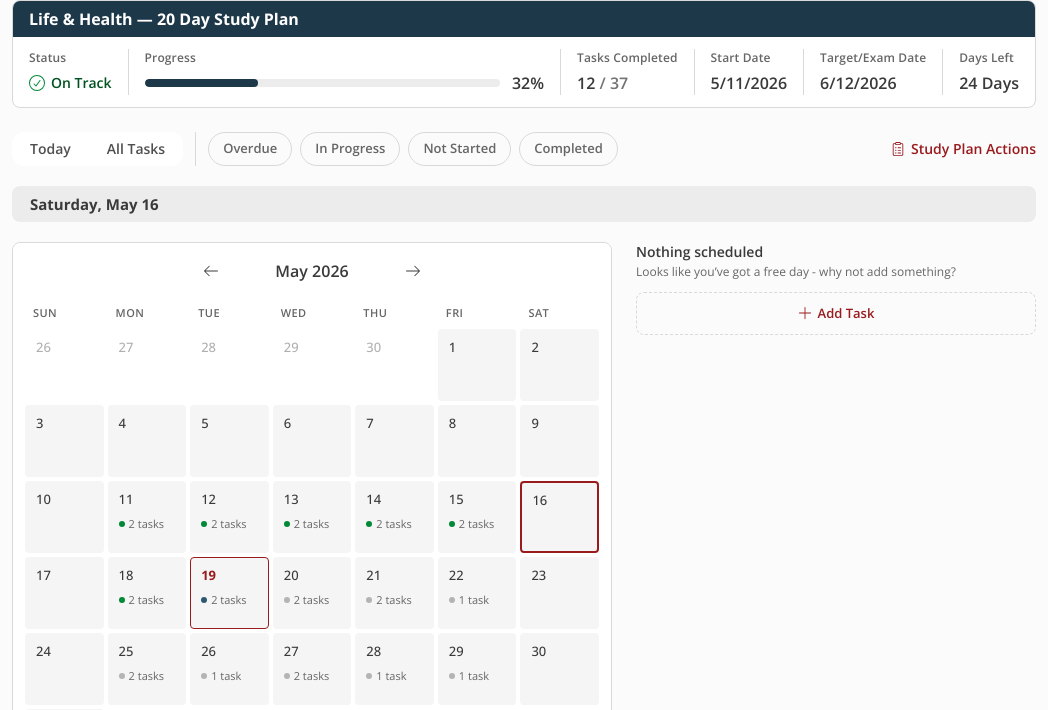
InlineStudyCalendar — create-task entry points › shows the filter message + Add Task when a filter empties the day
Activate a status chip that yields zero results for this empty day.
What coordinates should you click on to do the following:
click the button "Completed"
I would click on:
 (568, 149)
Its box is [519, 132, 618, 166].
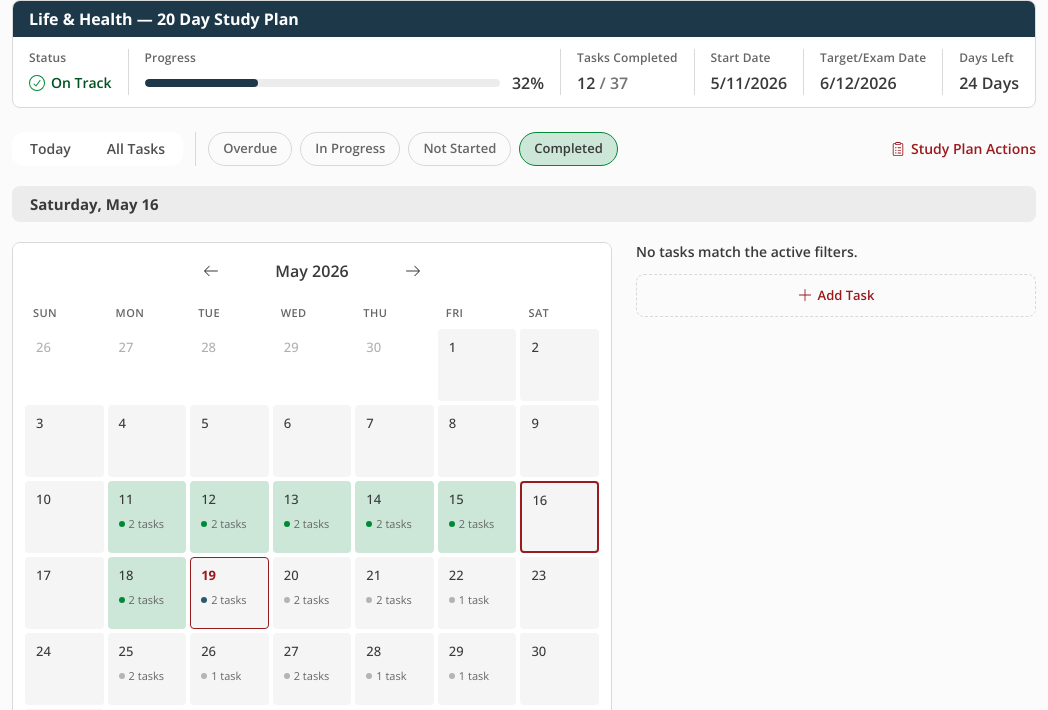
Check: the button "Add Task" is shown, box [636, 274, 1036, 317]
Check: the text "No tasks match the active filters." is shown, box [636, 242, 858, 260]
Check: the text "Nothing scheduled" is gone
